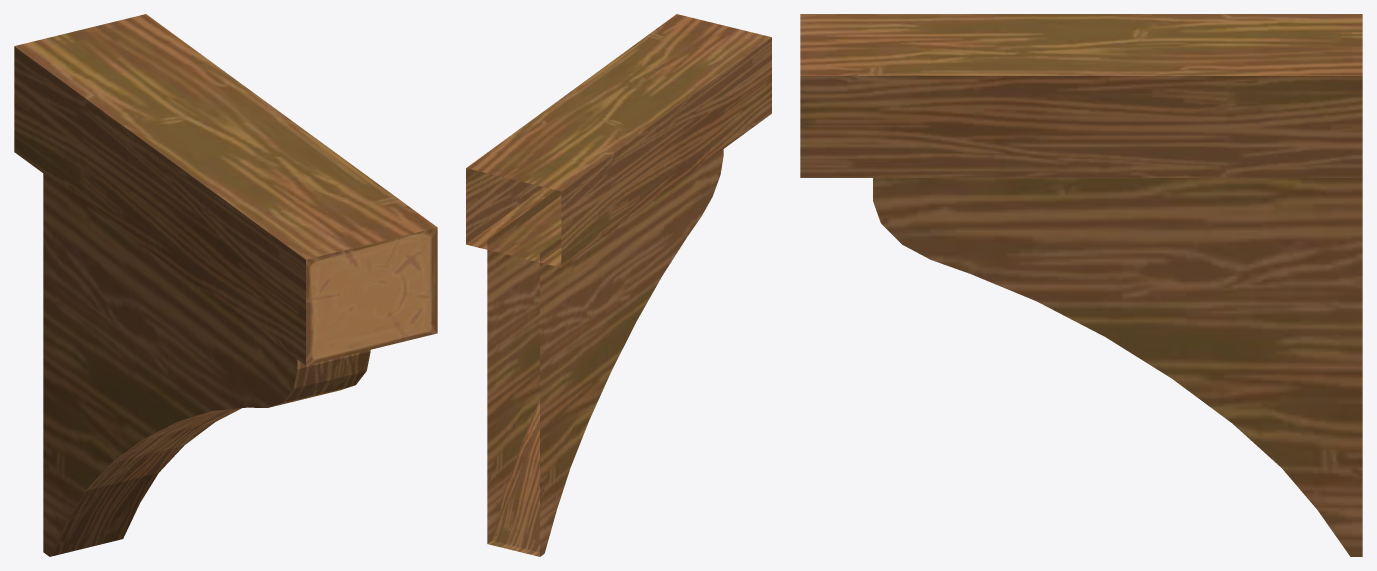
File: roof_support2.glb
The picture shows the model from 3 angles, left to right: view 1: azimuth 30°, elevation 25°; view 2: azimuth 150°, elevation 25°; view 3: azimuth 270°, elevation 25°; orthographic projection. The views are drawn at different scales.
Size of the model in its own units: 0.1997 by 0.7429 by 0.7651.
Materials: 1 (1 with a texture image).
